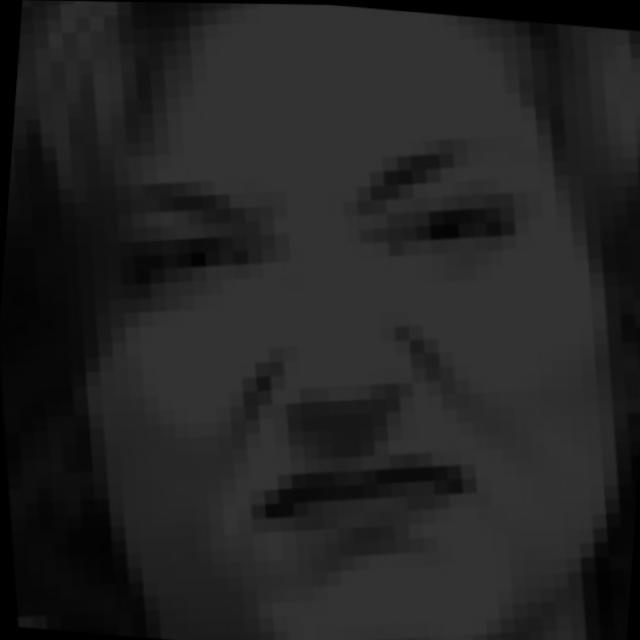Disgust: (49, 105, 605, 572)
